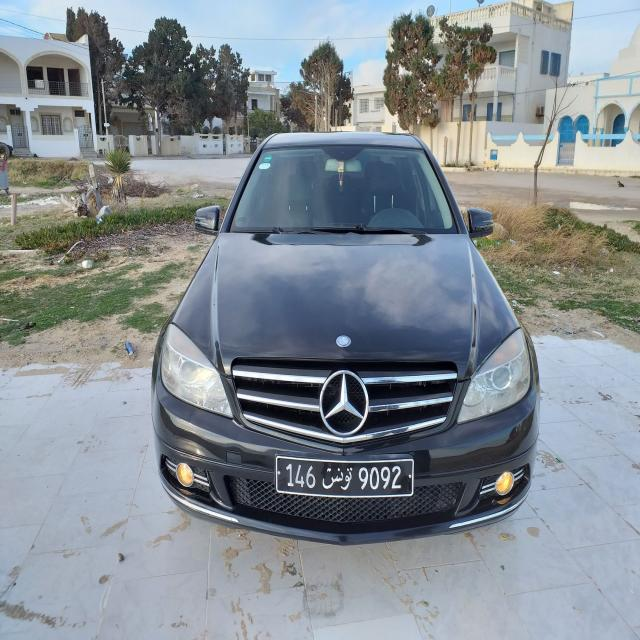LP: (274, 453, 414, 498)
